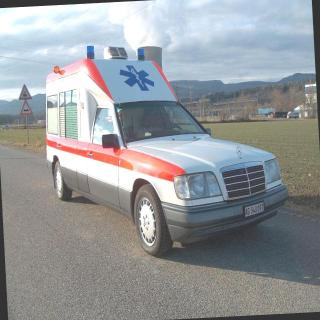Ambulance: (26, 27, 296, 262)
